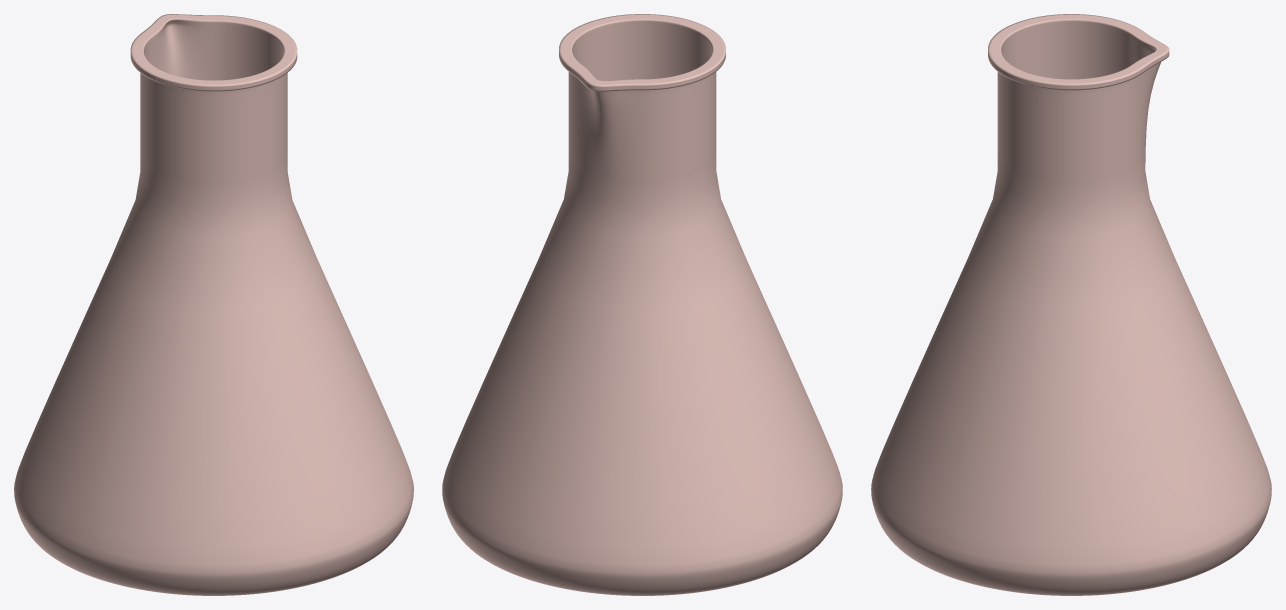
Rendered from Erlenmeyer.fbx.
3 views of the same model, side by side, from view 1: azimuth 30°, elevation 25°; view 2: azimuth 150°, elevation 25°; view 3: azimuth 270°, elevation 25° (orthographic).
Visible parts, largest first — view 1: Erlenmeyer1; view 2: Erlenmeyer1; view 3: Erlenmeyer1.
Boxes of the visible parts, x1=… form: Erlenmeyer1: x1=14, y1=14, x2=413, y2=595; Erlenmeyer1: x1=442, y1=14, x2=842, y2=595; Erlenmeyer1: x1=871, y1=14, x2=1271, y2=595.
Bounding box in the file's own units: 7.06 × 9.13 × 7.06.
